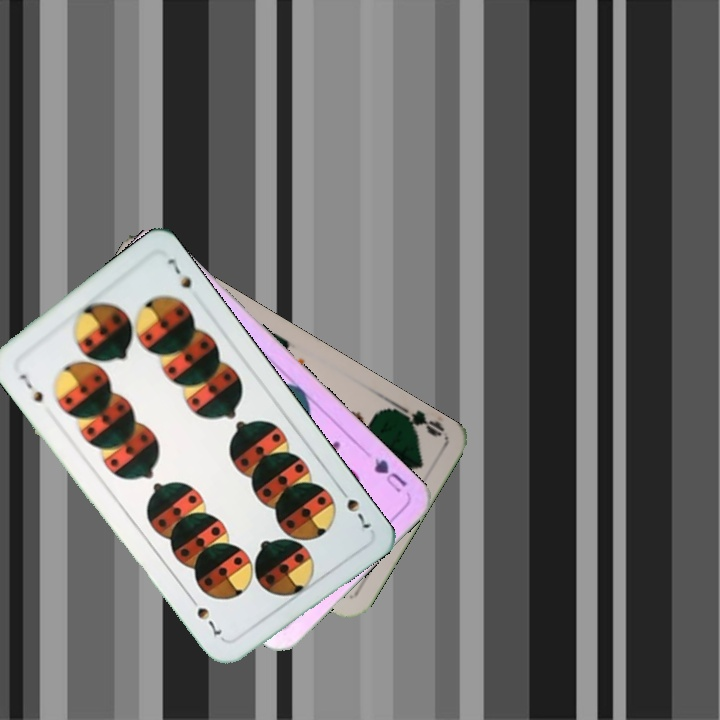GO: (388, 400, 447, 440)
GU: (370, 453, 410, 495)
S7: (334, 482, 375, 532), (15, 370, 46, 405)
